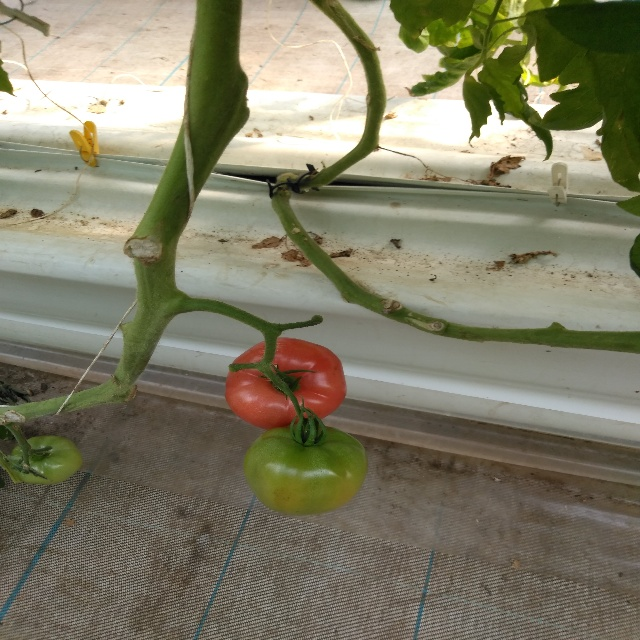b_fully_ripened: (224, 337, 347, 431)
b_green: (244, 424, 368, 516), (9, 436, 82, 485)
